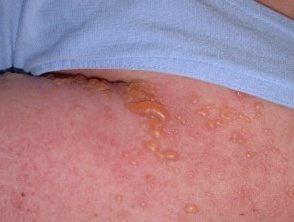SJS-TEN: (0, 49, 294, 222)
